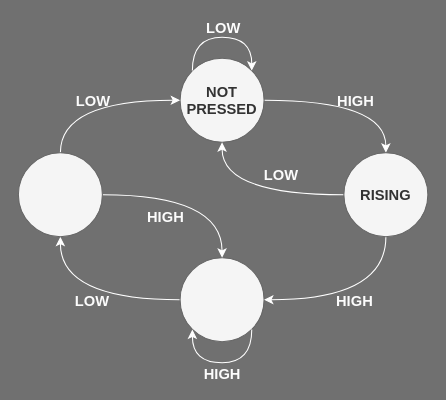
This 446x400 diagram has some shape labels left out. The centre of each missing label's shape, as x and y in pixels:
FALLING: (59,194)
PRESSED: (221,299)
